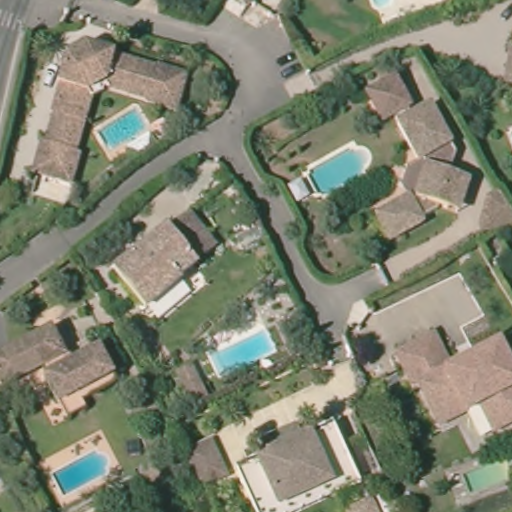pool: (203, 326, 283, 380), (299, 143, 373, 201), (44, 444, 116, 496), (93, 104, 157, 155), (461, 457, 512, 496)
